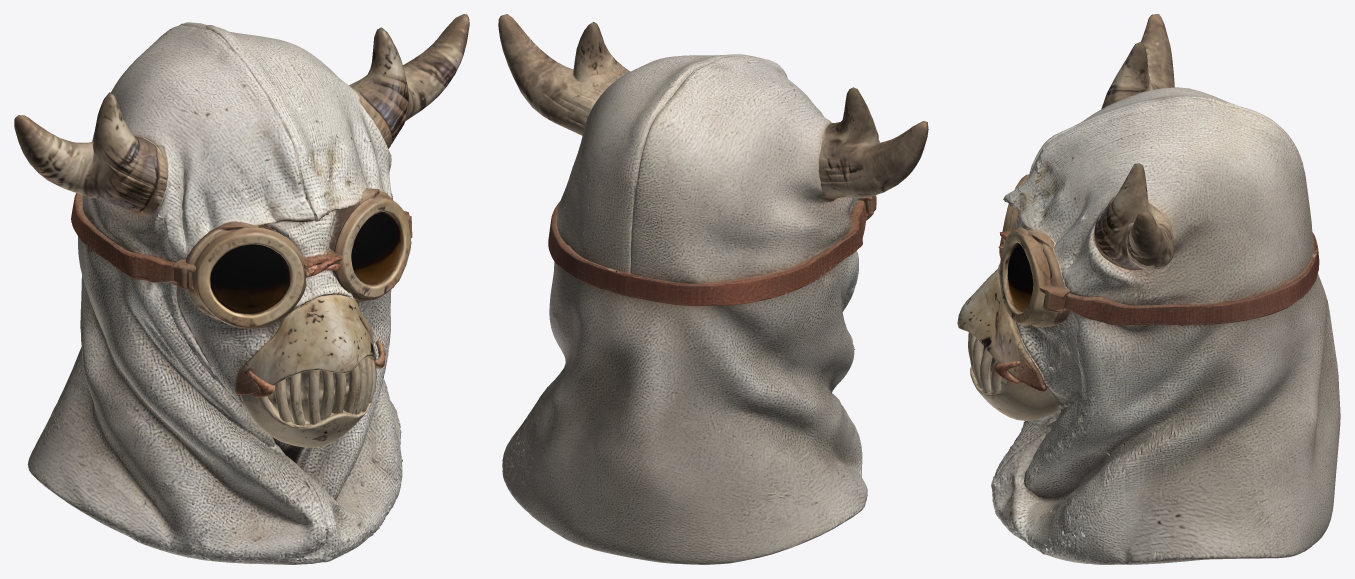
Rendered from nomad_horn_head.glb.
3 views of the same model, side by side, from view 1: azimuth 30°, elevation 25°; view 2: azimuth 150°, elevation 25°; view 3: azimuth 270°, elevation 25° (orthographic). The views are drawn at different scales.
Visible parts, largest first — view 1: model; view 2: model; view 3: model.
Part boxes in pixels (x1,y1,x2,y2): model: (14, 14, 469, 564); model: (498, 14, 928, 564); model: (957, 14, 1340, 564).
Size of the model in its own units: 1.9 by 1.89 by 1.53.
1 material, 1 textured.
